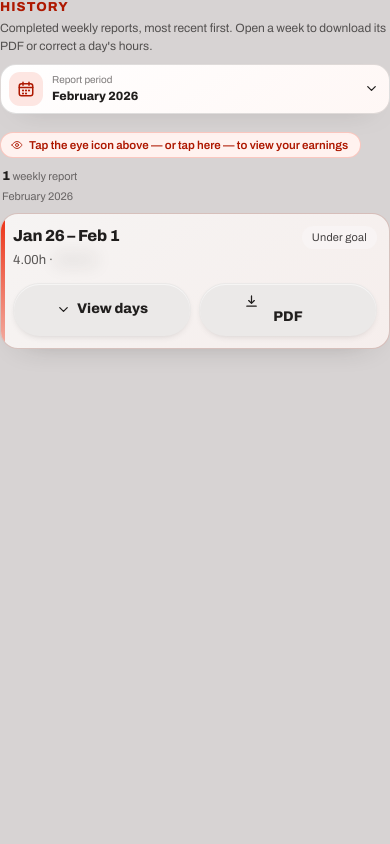
opening the editor › offers Add hours, and an empty form, for a day with no entry
The width and height of the screenshot is (390, 844).
Click the button "View days": (102, 309) [13,282,191,336]
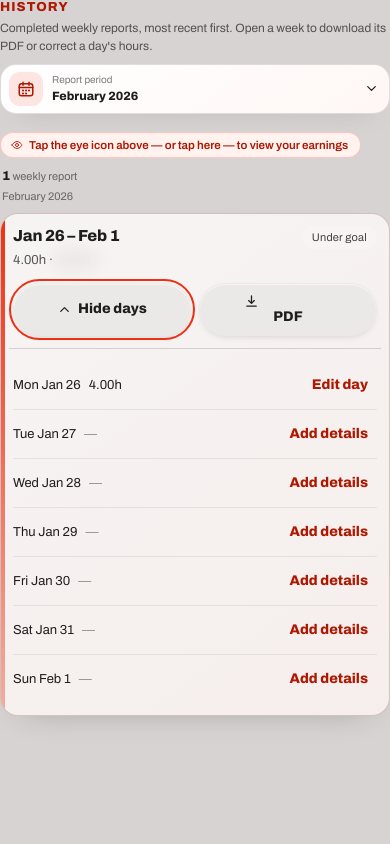
Click the button with aria-label "Add hours for Tue": (329, 434) [280,412,377,456]
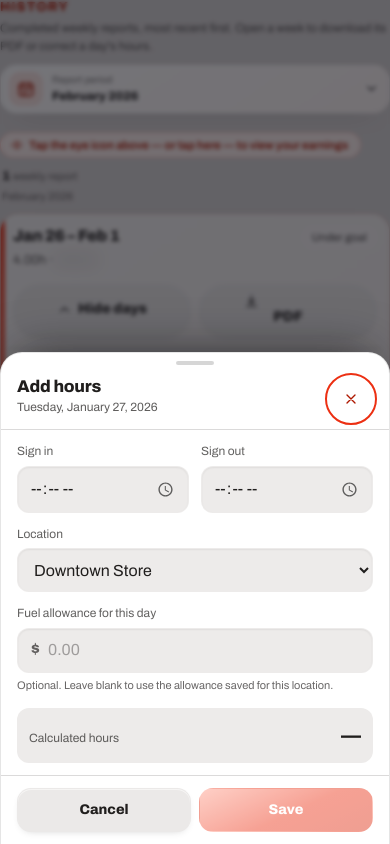
expect the heading "Add hours" is shown: met, box [17,377,101,396]
expect the time field labelled "Sign in" is empty: met, box [17,466,189,513]
